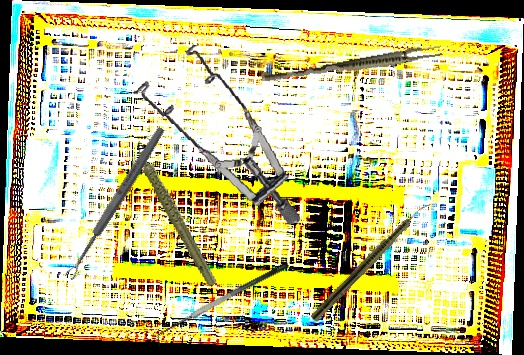Handpiece: (309, 195, 434, 325), (133, 130, 219, 296)
Spatula Surgical: (149, 260, 296, 348)
Speculum: (126, 34, 303, 242)
Surgical Spoon: (63, 125, 167, 281)
Tissue Forceps: (260, 41, 444, 89)
